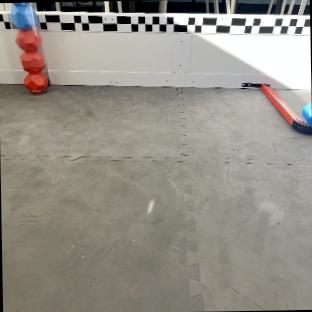Loader: (9, 2, 47, 91)
Parking-R: (241, 82, 311, 134)
V5_RED: (24, 70, 47, 93), (16, 29, 40, 51)
